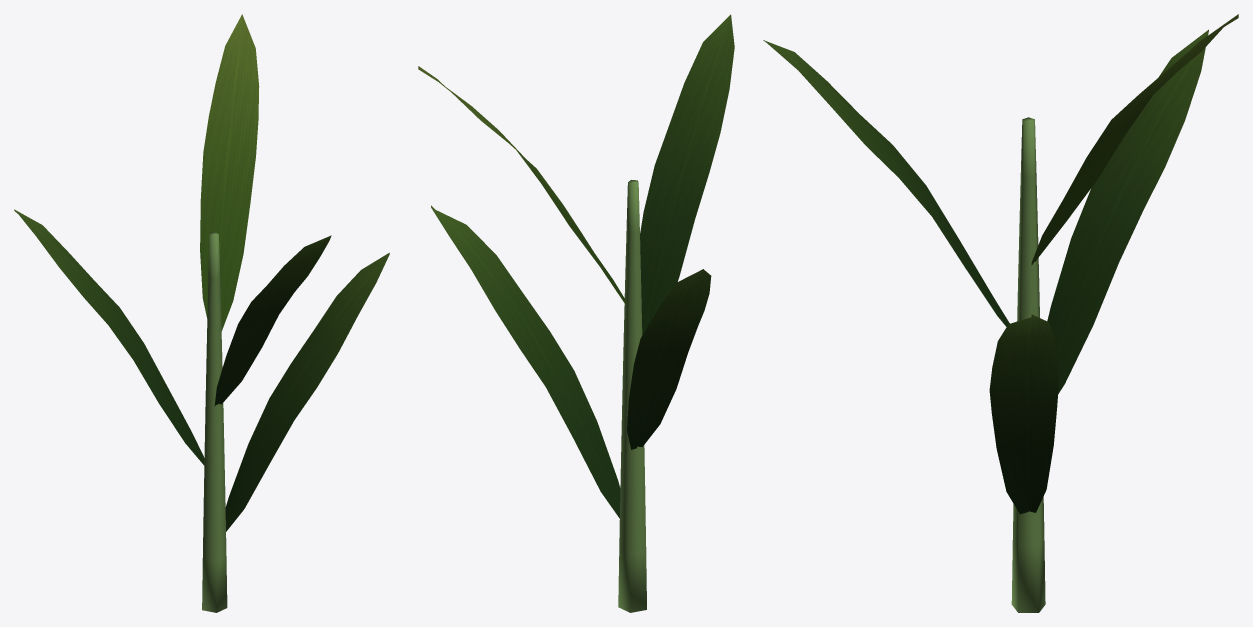
Rendered from iris-03-lod.glb.
3 views of the same model, side by side, from view 1: azimuth 30°, elevation 25°; view 2: azimuth 150°, elevation 25°; view 3: azimuth 270°, elevation 25° (orthographic). The views are drawn at different scales.
Visible parts, largest first — view 1: iris_stage_03_leaf_veins.005, iris_stage_03_young_leaf.005, iris_stage_03_stem_fibres.005; view 2: iris_stage_03_leaf_veins.005, iris_stage_03_stem_fibres.005, iris_stage_03_young_leaf.005; view 3: iris_stage_03_leaf_veins.005, iris_stage_03_stem_fibres.005, iris_stage_03_young_leaf.005.
Part boxes in pixels (x1=…): iris_stage_03_leaf_veins.005: x1=14, y1=209, x2=389, y2=531; iris_stage_03_young_leaf.005: x1=200, y1=14, x2=259, y2=330; iris_stage_03_stem_fibres.005: x1=202, y1=232, x2=227, y2=612; iris_stage_03_leaf_veins.005: x1=431, y1=14, x2=734, y2=518; iris_stage_03_stem_fibres.005: x1=618, y1=180, x2=646, y2=612; iris_stage_03_young_leaf.005: x1=418, y1=66, x2=627, y2=303; iris_stage_03_leaf_veins.005: x1=763, y1=29, x2=1208, y2=514; iris_stage_03_stem_fibres.005: x1=1011, y1=117, x2=1045, y2=612; iris_stage_03_young_leaf.005: x1=1031, y1=14, x2=1238, y2=265.
Size of the model in its own units: 0.1042 by 0.1645 by 0.107.
3 materials, 2 textured.
